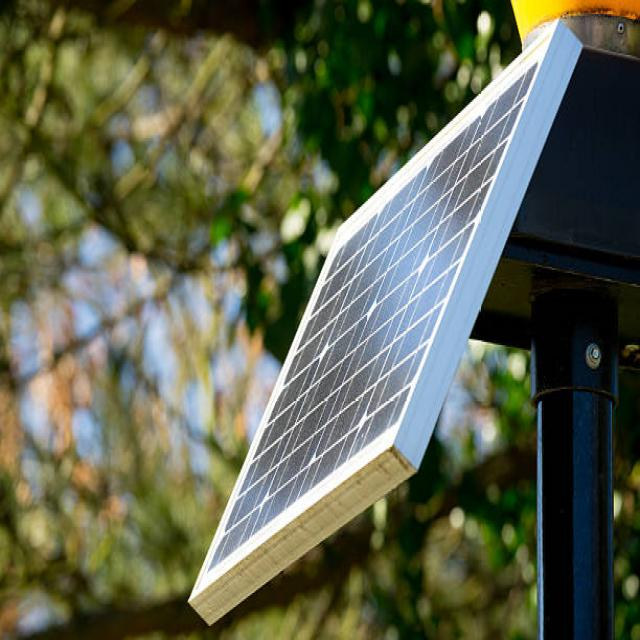no faulty: (192, 25, 563, 598)
